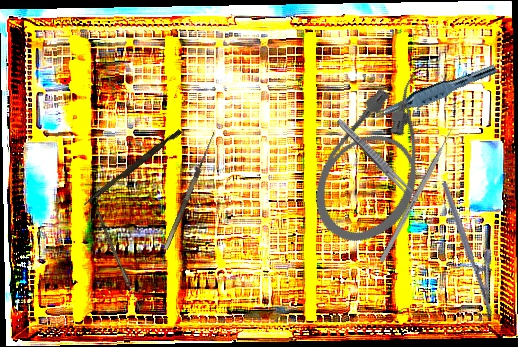Cannula: (295, 58, 467, 260)
Dressing Forceps: (334, 116, 421, 203)
Hook Surgical: (156, 128, 218, 251)
Needle Holder: (441, 175, 511, 318)
Pusher: (378, 118, 460, 264), (82, 126, 183, 210)
Surgical Spoon: (94, 209, 143, 312)
Tissue Forceps: (370, 56, 498, 128)
